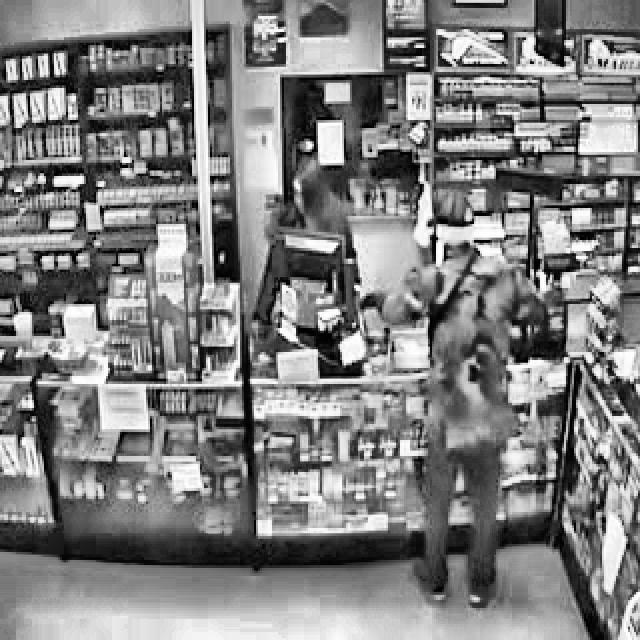robbery: (355, 181, 545, 614)
